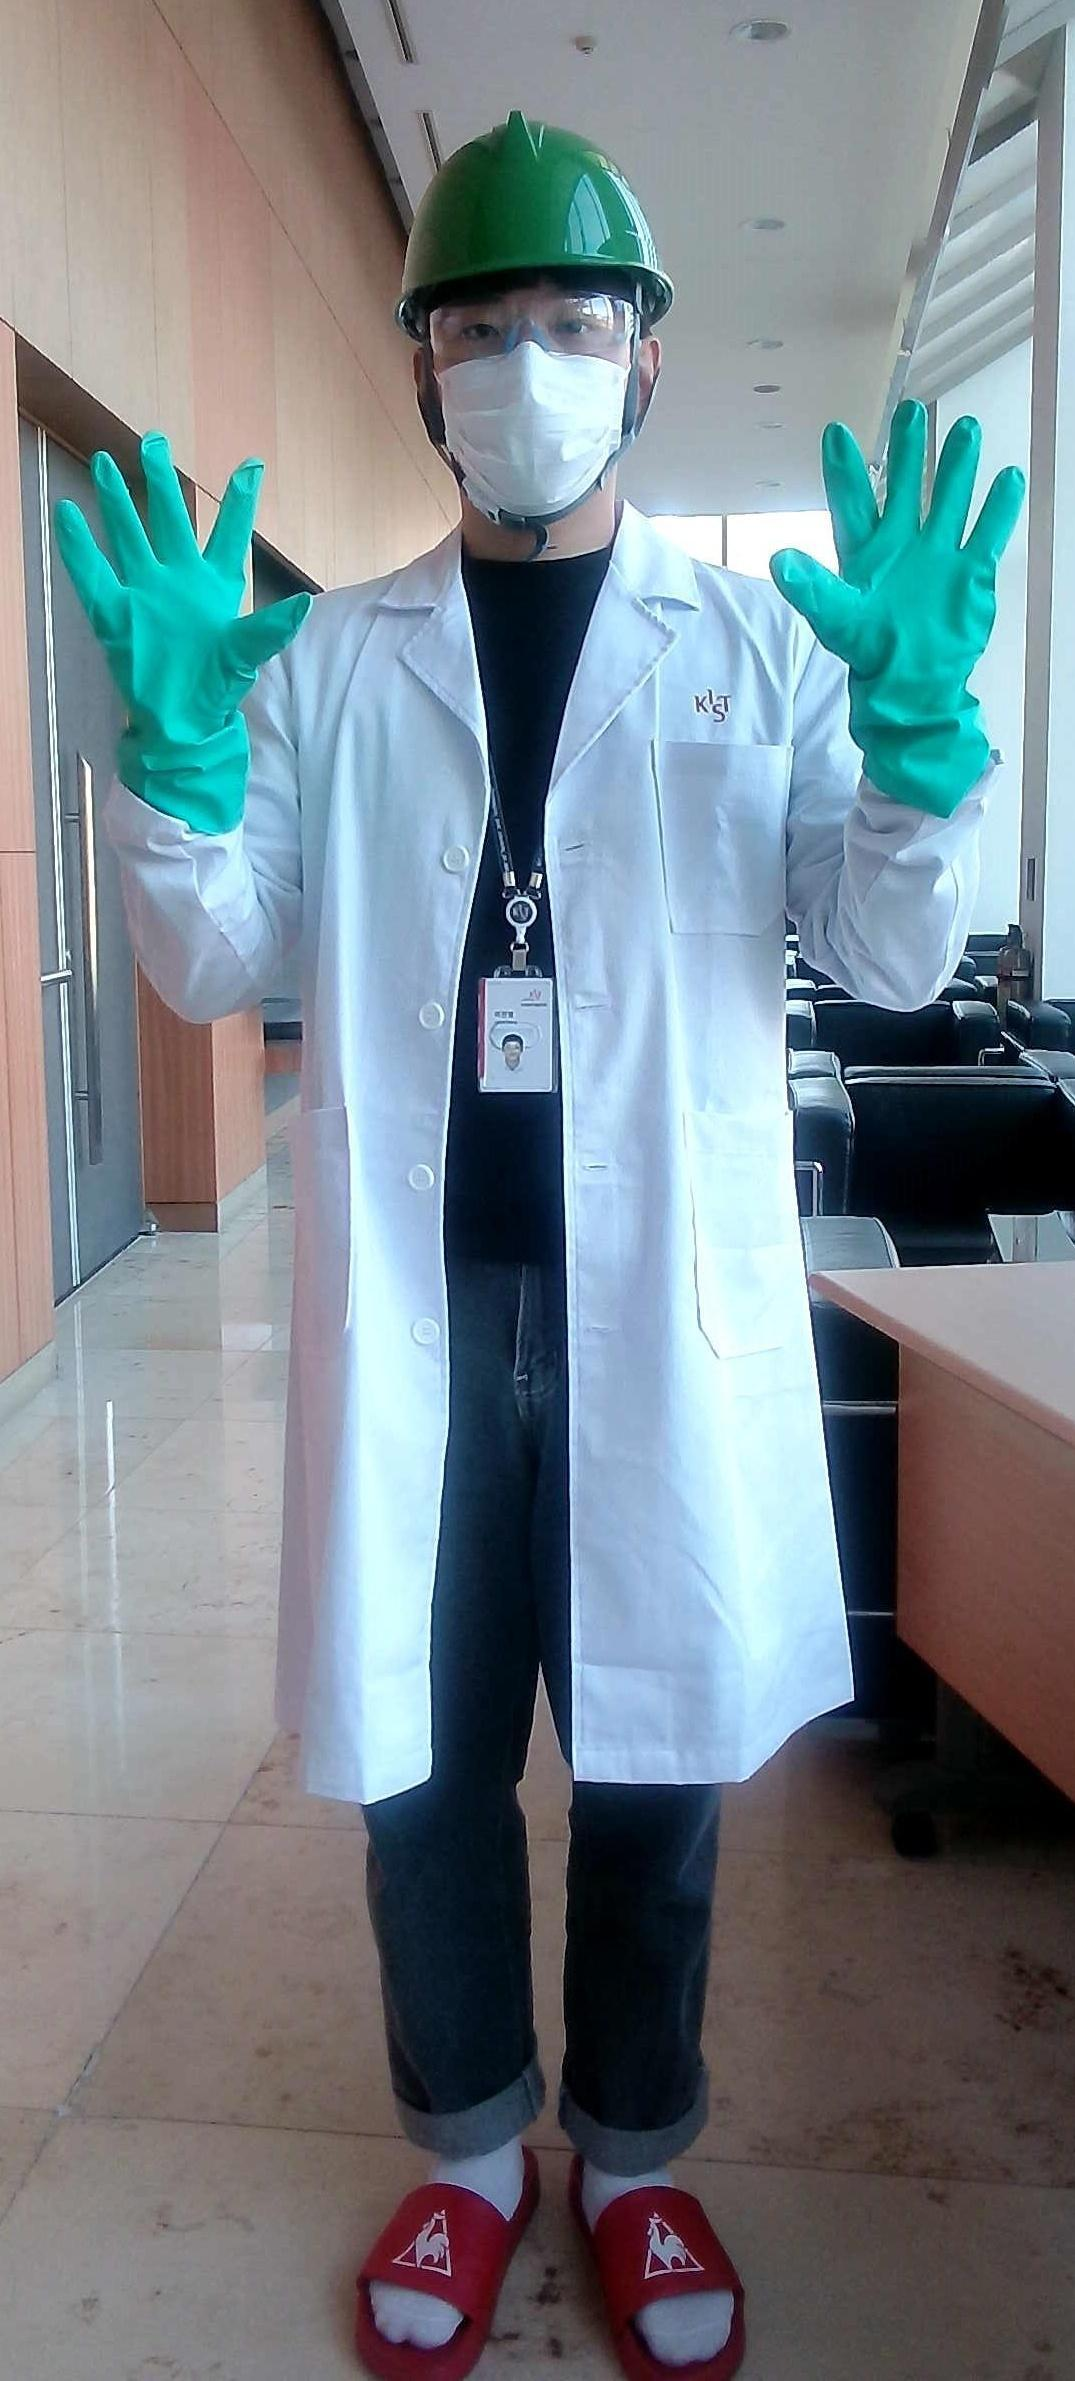lab_coat: (307, 612, 809, 1760)
